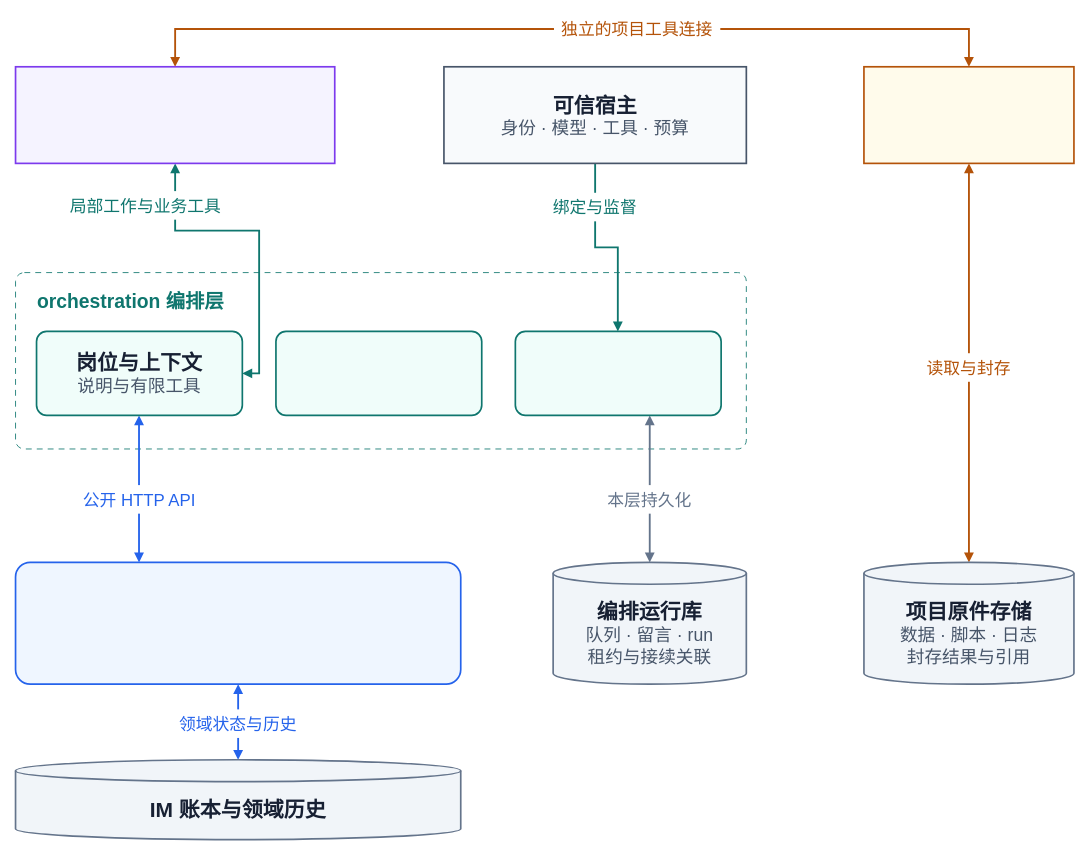
Image size: 1089x854. Some labels were removed from this diagram. The shapes that lost their labels are listed below. From the top down, each one's centre as x and y in pixels, then its label:
point 174,115: 人类与外部 AI 岗位 局部判断 · 贡献 · 问题
point 968,115: 项目工具 读取 · 计算 · 实验
point 378,373: 工作与交接 Queue · Board
point 618,373: 运行与恢复 Trigger · RuntimeHost
point 237,623: issue_manager 权威内核 Issue · Evidence · 关系 · 结论 身份 · 权限 · 版本 · 事务
